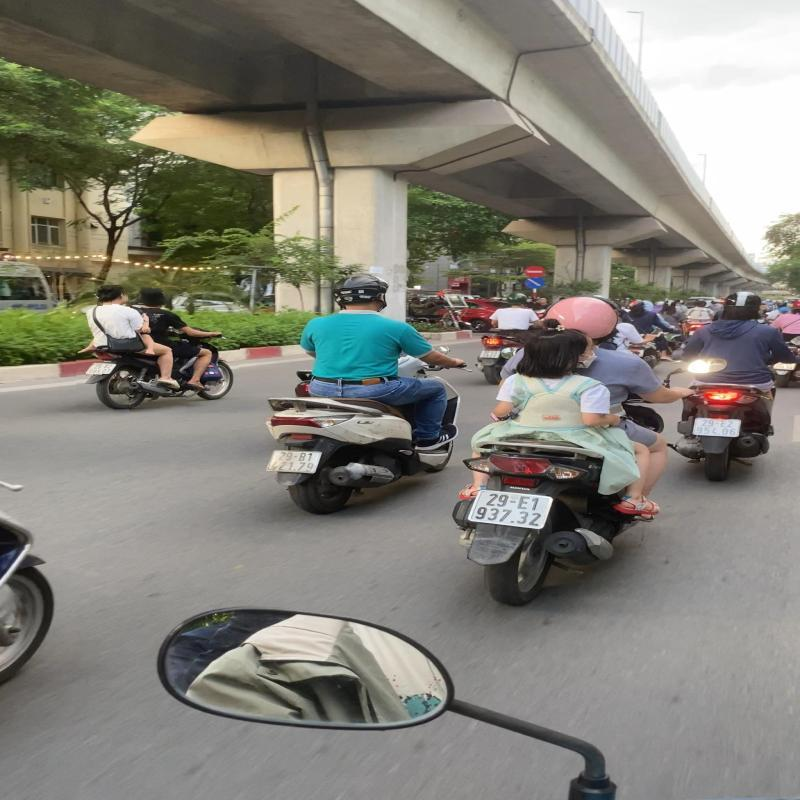licenseplate: (86, 364, 116, 376)
motorcyclist: (76, 286, 240, 412)
nohelmet: (97, 286, 128, 306), (138, 287, 169, 307)
